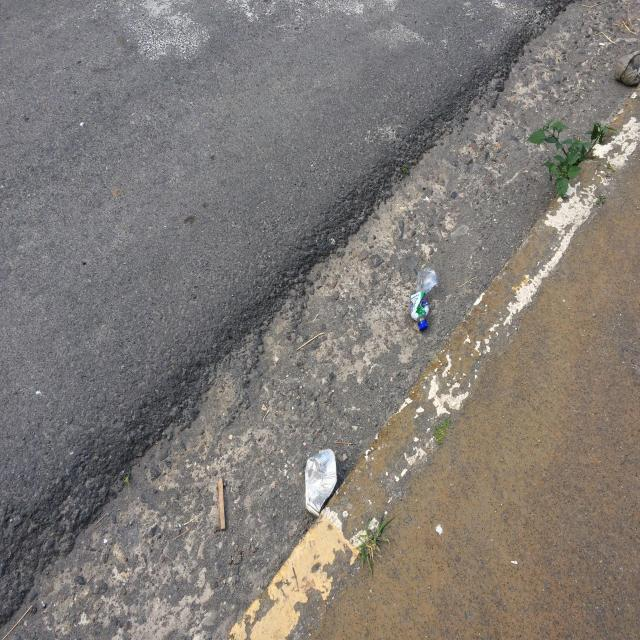Aluminium foil: (305, 448, 337, 517)
Cigarette: (599, 42, 605, 47)
Clear plastic bottle: (410, 267, 438, 331)
Plastic bottle cap: (418, 322, 428, 331)
